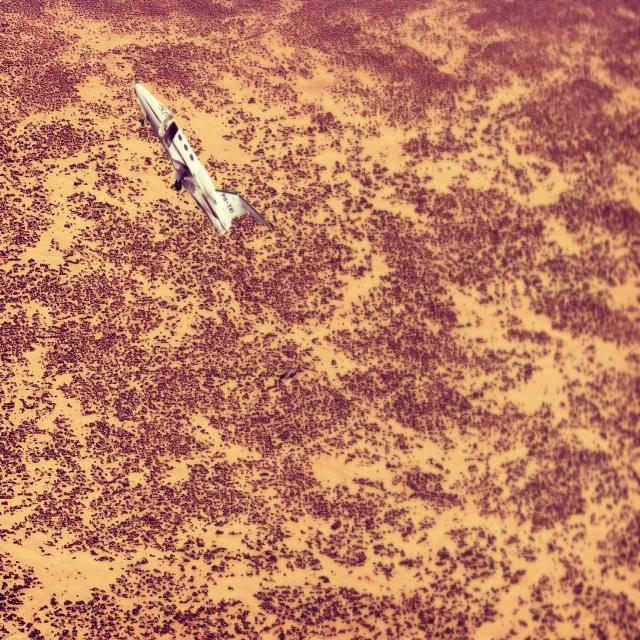airplane: (133, 80, 272, 237)
